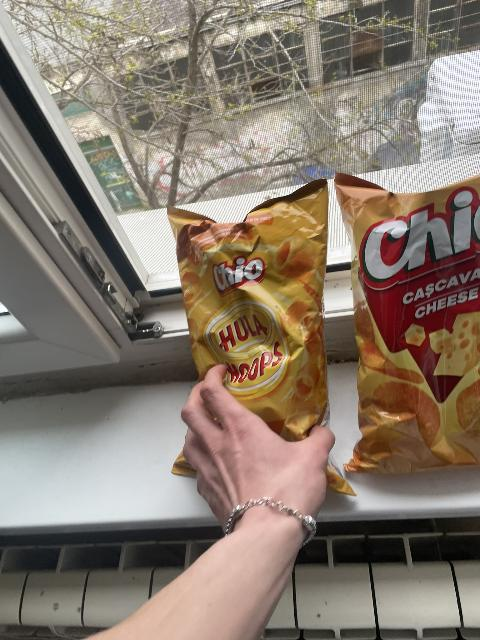Chio Cascaval 125g: (337, 171, 479, 469)
Chio Hula Hoops Cheese 70g: (166, 186, 339, 477)
